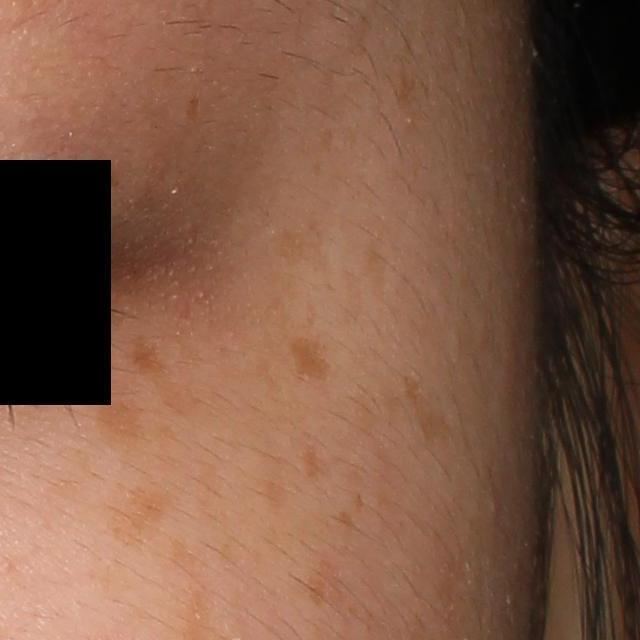melasma: (131, 330, 200, 420), (400, 369, 453, 455), (103, 483, 175, 546), (268, 219, 333, 281), (84, 393, 145, 455), (342, 245, 390, 318), (393, 59, 427, 133), (288, 335, 335, 383), (300, 442, 335, 487), (183, 93, 204, 126), (333, 508, 358, 529), (354, 491, 365, 511)
